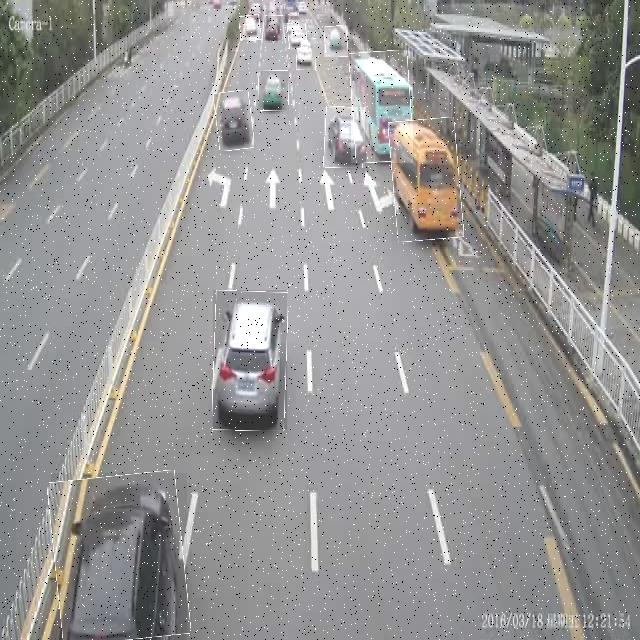Bus: (391, 119, 462, 241), (351, 51, 413, 163)
Car: (51, 473, 187, 640), (213, 290, 287, 430), (324, 107, 365, 168), (215, 91, 252, 151), (258, 71, 289, 111), (324, 26, 348, 57), (297, 38, 316, 70), (240, 15, 260, 40), (288, 23, 307, 49), (265, 15, 283, 40)
